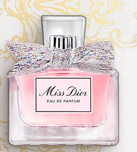dior_miss_dior: (4, 11, 125, 147)
